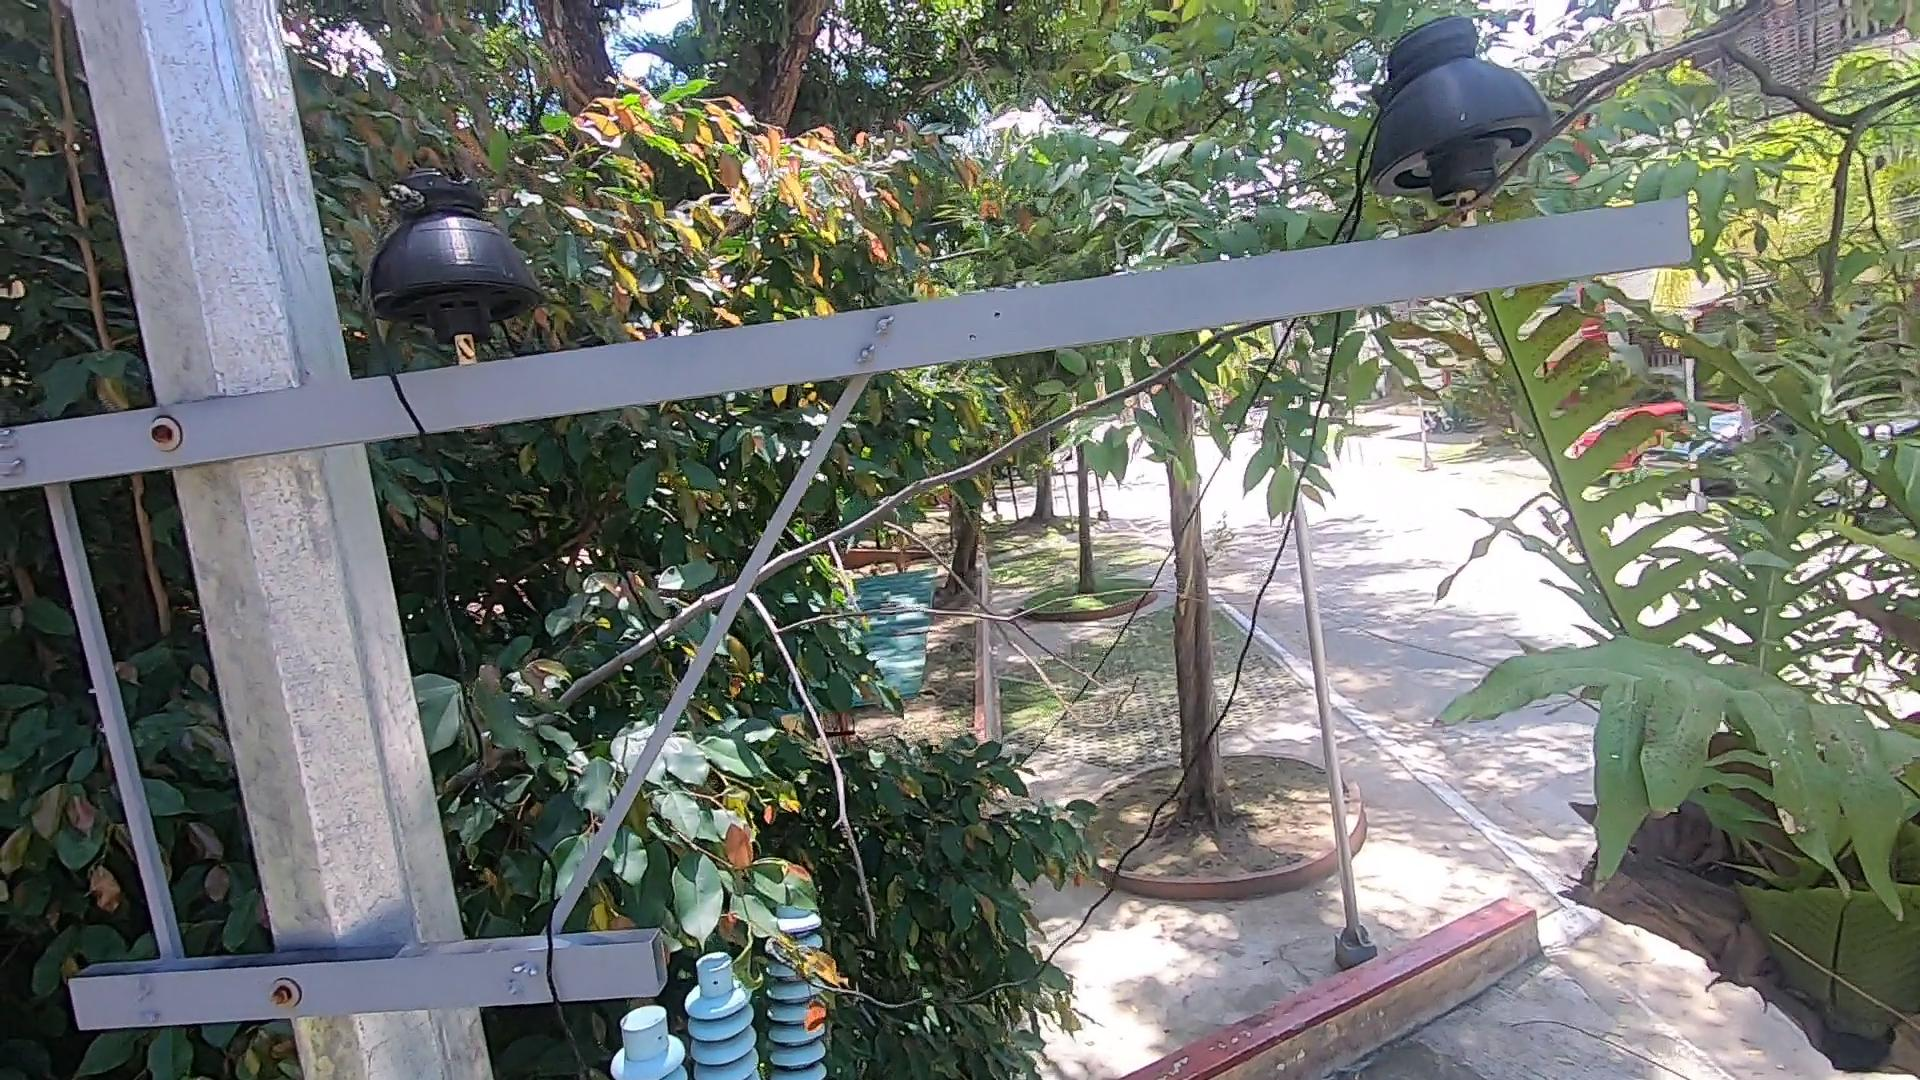tree branch: (427, 1, 1788, 955)
